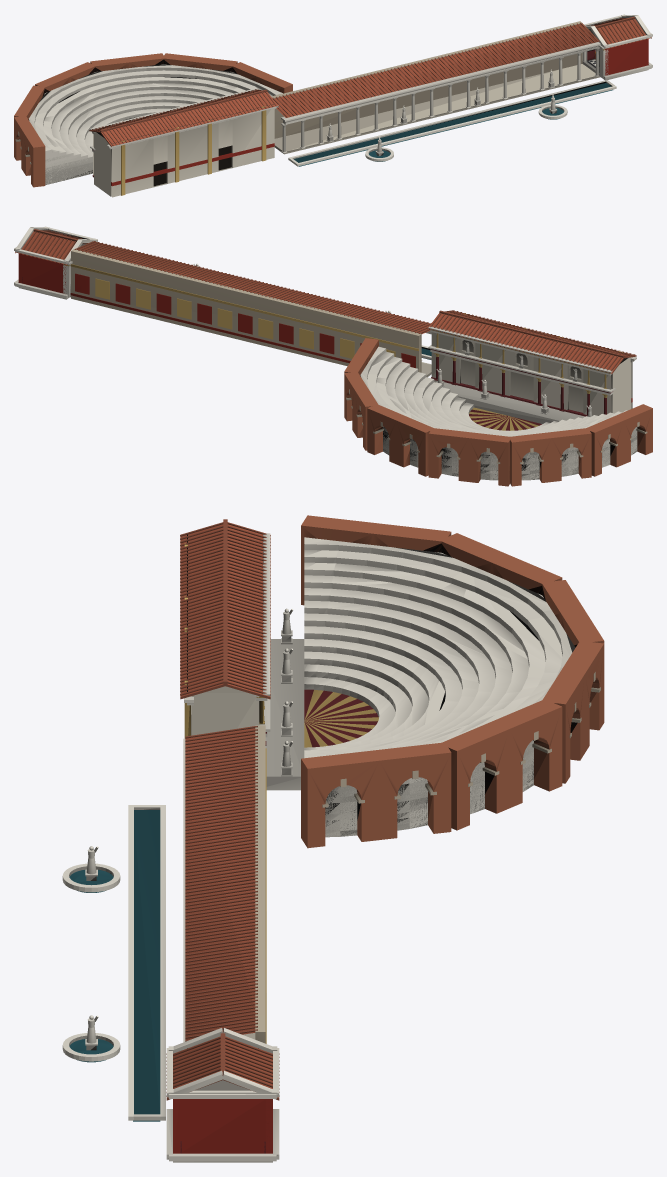
The model's file is rome_nero_theatre.glb.
3 renders of one model, top to bottom at view 1: azimuth 30°, elevation 25°; view 2: azimuth 150°, elevation 25°; view 3: azimuth 270°, elevation 25°, orthographic. The views are drawn at different scales.
Visible parts, largest first — view 1: rome_nero_theatre; view 2: rome_nero_theatre; view 3: rome_nero_theatre.
Boxes of the visible parts, left/top/right/bottom form: rome_nero_theatre: left=14, top=14, right=652, bottom=197; rome_nero_theatre: left=14, top=226, right=652, bottom=486; rome_nero_theatre: left=62, top=515, right=604, bottom=1162.
Bounding box in the file's own units: 108 × 10.97 × 43.27.
